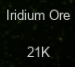Iridium: (6, 7, 71, 59)
